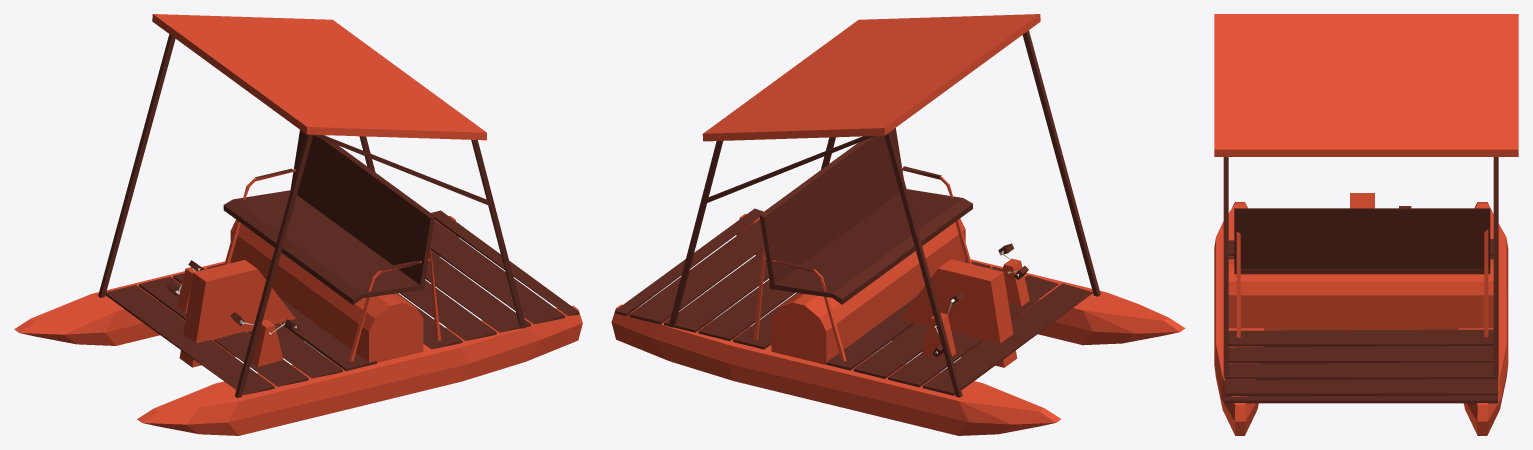
The model's file is PedalBoat_A.fbx.
The picture shows the model from 3 angles, left to right: view 1: azimuth 30°, elevation 25°; view 2: azimuth 150°, elevation 25°; view 3: azimuth 270°, elevation 25°; orthographic projection. The views are drawn at different scales.
Visible parts, largest first — view 1: PedalBoat_A; view 2: PedalBoat_A; view 3: PedalBoat_A.
Part boxes in pixels (<box>): PedalBoat_A: <box>14,14,582,435</box>; PedalBoat_A: <box>611,14,1185,435</box>; PedalBoat_A: <box>1214,14,1518,435</box>.
Size of the model in its own units: 268 by 171 by 163.
